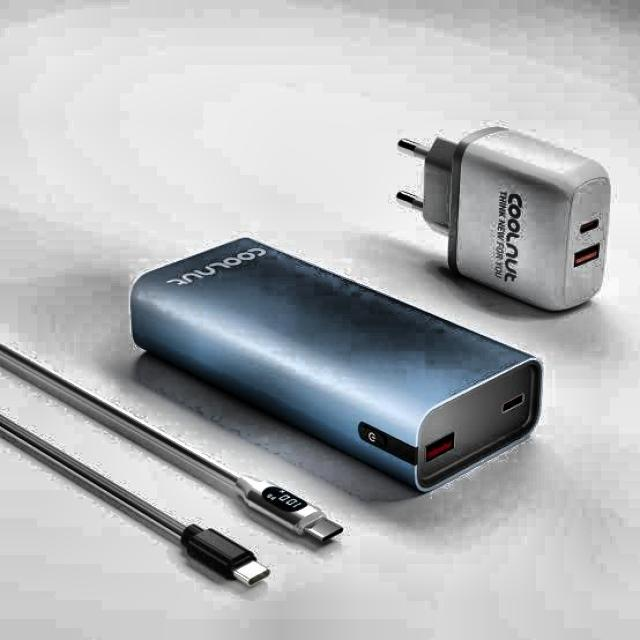Power bank: (132, 238, 541, 491)
